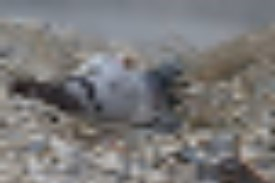pigeon: (9, 58, 189, 135)
